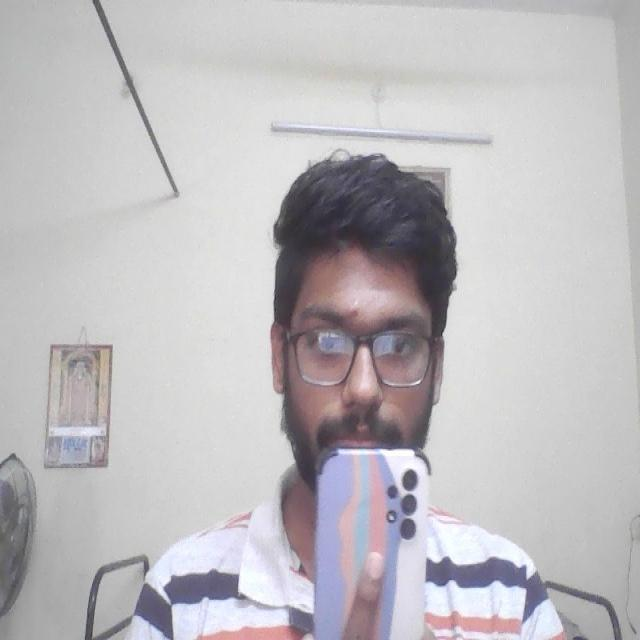Mobile: (305, 438, 431, 640)
